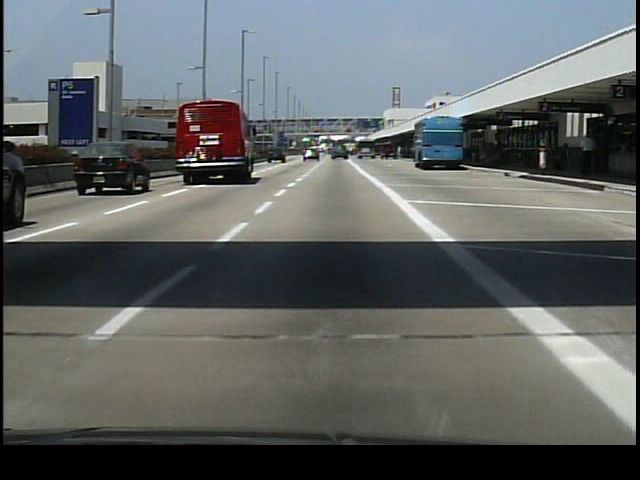person: (578, 133, 598, 180)
